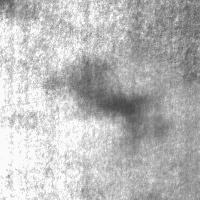patches: (53, 52, 200, 200), (126, 78, 200, 200), (78, 71, 150, 127)
